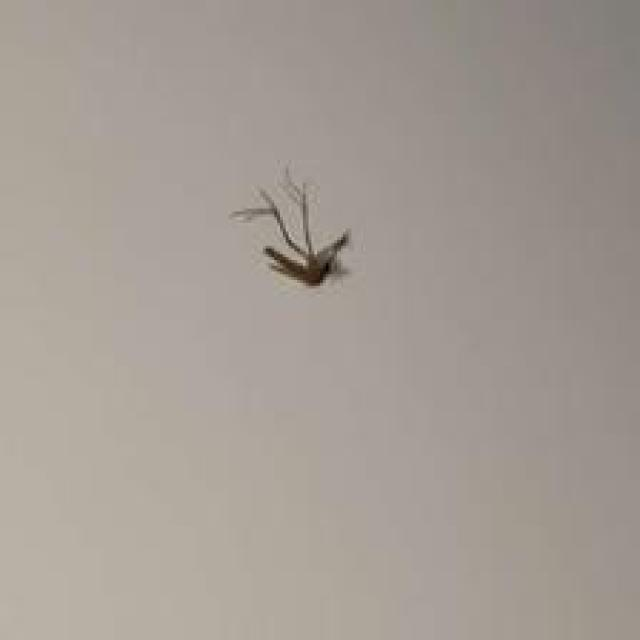Culex: (228, 165, 352, 288)
